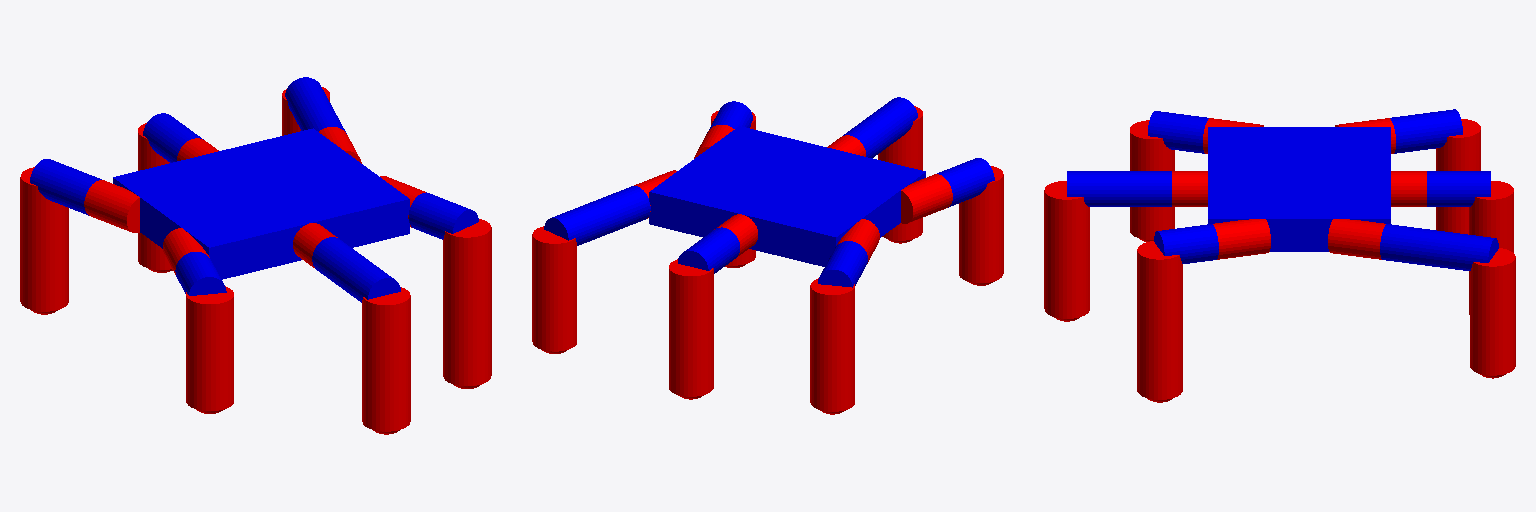
--- Render facts (derived) ---
The picture shows the robot from 3 angles, left to right: view 1: azimuth 30°, elevation 25°; view 2: azimuth 150°, elevation 25°; view 3: azimuth 270°, elevation 25°; orthographic projection.
Robot: pexod — 19 links, 18 joints (18 revolute); root link base_link; default pose: every joint at zero.
Visible links, largest first — view 1: base_link, leg_3_3, leg_4_3, leg_0_3, leg_5_3, leg_4_2, leg_0_2, leg_3_2, leg_0_1, leg_2_2, leg_5_2, leg_1_2 (+5 smaller); view 2: base_link, leg_1_3, leg_0_3, leg_2_3, leg_5_3, leg_2_2, leg_4_2, leg_4_3, leg_5_1, leg_1_2, leg_0_2, leg_5_2 (+3 smaller); view 3: base_link, leg_3_3, leg_4_3, leg_2_3, leg_2_2, leg_4_2, leg_5_3, leg_0_3, leg_1_3, leg_0_2, leg_1_2, leg_3_2 (+5 smaller).
Boxes of the visible links, x1,y1,x2,y2 form: base_link: (113,128,409,279); leg_3_3: (443,219,491,388); leg_4_3: (362,287,410,434); leg_0_3: (20,167,68,314); leg_5_3: (186,286,233,413); leg_4_2: (312,237,400,302); leg_0_2: (30,159,101,215); leg_3_2: (409,192,478,239); leg_0_1: (84,180,139,232); leg_2_2: (285,77,346,133); leg_5_2: (175,252,226,295); leg_1_2: (143,113,203,162); base_link: (649,126,925,266); leg_1_3: (669,259,713,399); leg_0_3: (810,278,854,414); leg_2_3: (532,226,576,353); leg_5_3: (959,166,1003,285); leg_2_2: (544,186,650,245); leg_4_2: (843,97,917,157); leg_4_3: (878,106,922,243); leg_5_1: (901,174,952,223); leg_1_2: (678,227,739,273); leg_0_2: (818,241,867,287); leg_5_2: (937,158,994,207); base_link: (1208,127,1390,251); leg_3_3: (1137,241,1182,402); leg_4_3: (1044,181,1089,321); leg_2_3: (1470,248,1515,378); leg_2_2: (1380,224,1498,270); leg_4_2: (1067,171,1171,206); leg_5_3: (1130,120,1174,241); leg_0_3: (1436,119,1480,234); leg_1_3: (1469,181,1513,314); leg_0_2: (1390,109,1462,153); leg_1_2: (1427,171,1490,206); leg_3_2: (1154,224,1218,263).
Bounding box of the posed robot: 0.3847 × 0.5172 × 0.2025 m (x, y, z).
Geometry: primitives only (box / cylinder / sphere), no mesh files.

robot.urdf — pexod:
<?xml version="1.0" ?>
<!-- =================================================================================== -->
<!-- |    This document was autogenerated by xacro from pexod.xacro                    | -->
<!-- |    EDITING THIS FILE BY HAND IS NOT RECOMMENDED                                 | -->
<!-- =================================================================================== -->
<robot name="pexod" xmlns:xacro="http://www.ros.org/wiki/xacro">
  <!-- <xacro:include filename="$(find pexod_description)/urdf/pexod_control.xacro" /> -->
  <!-- MATERIALS -->
  <material name="Blue">
    <color rgba="0 0 1 1"/>
  </material>
  <material name="Red">
    <color rgba="1 0 0 1"/>
  </material>
  <material name="Green">
    <color rgba="0 1 0 1"/>
  </material>
  <material name="Yellow">
    <color rgba="1 1 0 1"/>
  </material>
  <material name="LightGrey">
    <color rgba="0.6 0.6 0.6 1.0"/>
  </material>
  <!-- END OF MATERIALS -->
  <!-- XACRO MACROS FOR VISUALS AND COLLISIONS -->
  <!-- END OF XACRO MACROS -->
  <!-- TORSO -->
  <link name="base_link">
    <visual>
      <origin rpy="0 0 0" xyz="0 0 0"/>
      <geometry>
        <box size="0.24 0.2 0.04"/>
      </geometry>
      <material name="Blue"/>
    </visual>
    <collision>
      <origin rpy="0 0 0" xyz="0 0 0"/>
      <geometry>
        <box size="0.24 0.2 0.04"/>
      </geometry>
    </collision>
    <inertial>
      <!-- CENTER OF MASS -->
      <origin rpy="0 0 0" xyz="0 0 0"/>
      <mass value="1.031"/>
      <!-- box inertia: 1/12*m(y^2+z^2), ... -->
      <inertia ixx="0.00357413333333" ixy="0" ixz="0" iyy="0.00508626666667" iyz="0" izz="0.00838546666667"/>
    </inertial>
  </link>
  <!-- XACRO MACRO FOR LEGS LINKS/JOINTS -->
  <!-- END OF LEG LINKS/JOINTS -->
  <joint name="body_leg_2" type="revolute">
    <parent link="base_link"/>
    <child link="leg_2_1"/>
    <limit effort="30.0" lower="-1.57079632679" upper="1.57079632679" velocity="7.0"/>
    <origin rpy="0 0 -0.3" xyz="0.11 0.04 0"/>
    <!-- <xacro:if value="${index == 5 or index == 4 or index == 3}">
                <axis xyz="0 0 1"/>
            </xacro:if>
            <xacro:if value="${index == 2 or index == 1 or index == 0}"> -->
    <axis xyz="0 0 1"/>
    <!-- </xacro:if> -->
    <dynamics damping="0.0"/>
  </joint>
  <link name="leg_2_1">
    <visual>
      <origin rpy="1.57079632679 0 0" xyz="0.01 0.03 0"/>
      <geometry>
        <cylinder length="0.06" radius="0.02"/>
      </geometry>
      <material name="Red"/>
    </visual>
    <collision>
      <origin rpy="1.57079632679 0 0" xyz="0.01 0.03 0"/>
      <geometry>
        <box size="0.02 0.02 0.06"/>
      </geometry>
    </collision>
    <inertial>
      <!-- CENTER OF MASS -->
      <origin rpy="1.57079632679 0 0" xyz="0.01 0.03 0"/>
      <mass value="0.02"/>
      <!-- box inertia: 1/12*m(y^2+z^2), ... -->
      <inertia ixx="6.66666666667e-06" ixy="0" ixz="0" iyy="6.66666666667e-06" iyz="0" izz="1.33333333333e-06"/>
    </inertial>
  </link>
  <joint name="leg_2_1_2" type="revolute">
    <parent link="leg_2_1"/>
    <child link="leg_2_2"/>
    <limit effort="30.0" lower="-0.78539816339" upper="0.78539816339" velocity="7.0"/>
    <origin rpy="0 0 0" xyz="0 0.06 0"/>
    <axis xyz="1 0 0"/>
    <dynamics damping="0.0"/>
  </joint>
  <link name="leg_2_2">
    <visual>
      <origin rpy="1.57079632679 0 0" xyz="0.01 0.062117402675 0"/>
      <geometry>
        <cylinder length="0.12423480535" radius="0.02"/>
      </geometry>
      <material name="Blue"/>
    </visual>
    <collision>
      <origin rpy="1.57079632679 0 0" xyz="0.01 0.062117402675 0"/>
      <geometry>
        <box size="0.02 0.02 0.12423480535"/>
      </geometry>
    </collision>
    <inertial>
      <!-- CENTER OF MASS -->
      <origin rpy="1.57079632679 0 0" xyz="0.01 0.062117402675 0"/>
      <mass value="0.184"/>
      <!-- box inertia: 1/12*m(y^2+z^2), ... -->
      <inertia ixx="0.000242792398525" ixy="0" ixz="0" iyy="0.000242792398525" iyz="0" izz="1.22666666667e-05"/>
    </inertial>
  </link>
  <joint name="leg_2_2_3" type="revolute">
    <parent link="leg_2_2"/>
    <child link="leg_2_3"/>
    <limit effort="30.0" lower="-0.78539816339" upper="0.78539816339" velocity="7.0"/>
    <origin rpy="-1.57079632679 0 0" xyz="0 0.12423480535 0"/>
    <axis xyz="-1 0 0"/>
    <dynamics damping="0.0"/>
  </joint>
  <link name="leg_2_3">
    <visual>
      <origin rpy="1.57079632679 0 0" xyz="0.0125 0.066045523135 0"/>
      <geometry>
        <cylinder length="0.13209104627" radius="0.025"/>
      </geometry>
      <material name="Red"/>
    </visual>
    <visual>
      <origin rpy="1.57079632679 0 0" xyz="0.0125 0.11959104627 0"/>
      <geometry>
        <sphere radius="0.025"/>
      </geometry>
      <material name="Red"/>
    </visual>
    <collision>
      <origin rpy="1.57079632679 0 0" xyz="0.0125 0.066045523135 0"/>
      <geometry>
        <box size="0.025 0.025 0.13209104627"/>
      </geometry>
    </collision>
    <collision>
      <origin rpy="1.57079632679 0 0" xyz="0.0125 0.11959104627 0"/>
      <geometry>
        <sphere radius="0.025"/>
      </geometry>
      <material name="Red"/>
    </collision>
    <inertial>
      <!-- CENTER OF MASS -->
      <origin rpy="1.57079632679 0 0" xyz="0.0125 0.066045523135 0"/>
      <mass value="0.04"/>
      <!-- box inertia: 1/12*m(y^2+z^2), ... -->
      <inertia ixx="6.02434816823e-05" ixy="0" ixz="0" iyy="6.02434816823e-05" iyz="0" izz="4.16666666667e-06"/>
    </inertial>
  </link>
  <joint name="body_leg_3" type="revolute">
    <parent link="base_link"/>
    <child link="leg_3_1"/>
    <limit effort="30.0" lower="-1.57079632679" upper="1.57079632679" velocity="7.0"/>
    <origin rpy="0 0 0.3" xyz="0.11 -0.04 0"/>
    <!-- <xacro:if value="${index == 5 or index == 4 or index == 3}">
                <axis xyz="0 0 1"/>
            </xacro:if>
            <xacro:if value="${index == 2 or index == 1 or index == 0}"> -->
    <axis xyz="0 0 1"/>
    <!-- </xacro:if> -->
    <dynamics damping="0.0"/>
  </joint>
  <link name="leg_3_1">
    <visual>
      <origin rpy="1.57079632679 0 0" xyz="0.01 -0.03 0"/>
      <geometry>
        <cylinder length="0.06" radius="0.02"/>
      </geometry>
      <material name="Red"/>
    </visual>
    <collision>
      <origin rpy="1.57079632679 0 0" xyz="0.01 -0.03 0"/>
      <geometry>
        <box size="0.02 0.02 0.06"/>
      </geometry>
    </collision>
    <inertial>
      <!-- CENTER OF MASS -->
      <origin rpy="1.57079632679 0 0" xyz="0.01 -0.03 0"/>
      <mass value="0.02"/>
      <!-- box inertia: 1/12*m(y^2+z^2), ... -->
      <inertia ixx="6.66666666667e-06" ixy="0" ixz="0" iyy="6.66666666667e-06" iyz="0" izz="1.33333333333e-06"/>
    </inertial>
  </link>
  <joint name="leg_3_1_2" type="revolute">
    <parent link="leg_3_1"/>
    <child link="leg_3_2"/>
    <limit effort="30.0" lower="-0.78539816339" upper="0.78539816339" velocity="7.0"/>
    <origin rpy="0 0 0" xyz="0 -0.06 0"/>
    <axis xyz="-1 0 0"/>
    <dynamics damping="0.0"/>
  </joint>
  <link name="leg_3_2">
    <visual>
      <origin rpy="1.57079632679 0 0" xyz="0.01 -0.0311464547611 0"/>
      <geometry>
        <cylinder length="0.0622929095222" radius="0.02"/>
      </geometry>
      <material name="Blue"/>
    </visual>
    <collision>
      <origin rpy="1.57079632679 0 0" xyz="0.01 -0.0311464547611 0"/>
      <geometry>
        <box size="0.02 0.02 0.0622929095222"/>
      </geometry>
    </collision>
    <inertial>
      <!-- CENTER OF MASS -->
      <origin rpy="1.57079632679 0 0" xyz="0.01 -0.0311464547611 0"/>
      <mass value="0.184"/>
      <!-- box inertia: 1/12*m(y^2+z^2), ... -->
      <inertia ixx="6.56329008434e-05" ixy="0" ixz="0" iyy="6.56329008434e-05" iyz="0" izz="1.22666666667e-05"/>
    </inertial>
  </link>
  <joint name="leg_3_2_3" type="revolute">
    <parent link="leg_3_2"/>
    <child link="leg_3_3"/>
    <limit effort="30.0" lower="-0.78539816339" upper="0.78539816339" velocity="7.0"/>
    <origin rpy="1.57079632679 0 0" xyz="0 -0.0622929095222 0"/>
    <axis xyz="1 0 0"/>
    <dynamics damping="0.0"/>
  </joint>
  <link name="leg_3_3">
    <visual>
      <origin rpy="1.57079632679 0 0" xyz="0.0125 -0.085015945963 0"/>
      <geometry>
        <cylinder length="0.170031891926" radius="0.025"/>
      </geometry>
      <material name="Red"/>
    </visual>
    <visual>
      <origin rpy="1.57079632679 0 0" xyz="0.0125 -0.157531891926 0"/>
      <geometry>
        <sphere radius="0.025"/>
      </geometry>
      <material name="Red"/>
    </visual>
    <collision>
      <origin rpy="1.57079632679 0 0" xyz="0.0125 -0.085015945963 0"/>
      <geometry>
        <box size="0.025 0.025 0.170031891926"/>
      </geometry>
    </collision>
    <collision>
      <origin rpy="1.57079632679 0 0" xyz="0.0125 -0.157531891926 0"/>
      <geometry>
        <sphere radius="0.025"/>
      </geometry>
      <material name="Red"/>
    </collision>
    <inertial>
      <!-- CENTER OF MASS -->
      <origin rpy="1.57079632679 0 0" xyz="0.0125 -0.085015945963 0"/>
      <mass value="0.04"/>
      <!-- box inertia: 1/12*m(y^2+z^2), ... -->
      <inertia ixx="9.84528142398e-05" ixy="0" ixz="0" iyy="9.84528142398e-05" iyz="0" izz="4.16666666667e-06"/>
    </inertial>
  </link>
  <joint name="body_leg_0" type="revolute">
    <parent link="base_link"/>
    <child link="leg_0_1"/>
    <limit effort="30.0" lower="-1.57079632679" upper="1.57079632679" velocity="7.0"/>
    <origin rpy="0 0 0.3" xyz="-0.13 0.04 0"/>
    <!-- <xacro:if value="${index == 5 or index == 4 or index == 3}">
                <axis xyz="0 0 1"/>
            </xacro:if>
            <xacro:if value="${index == 2 or index == 1 or index == 0}"> -->
    <axis xyz="0 0 1"/>
    <!-- </xacro:if> -->
    <dynamics damping="0.0"/>
  </joint>
  <link name="leg_0_1">
    <visual>
      <origin rpy="1.57079632679 0 0" xyz="0.01 0.03 0"/>
      <geometry>
        <cylinder length="0.06" radius="0.02"/>
      </geometry>
      <material name="Red"/>
    </visual>
    <collision>
      <origin rpy="1.57079632679 0 0" xyz="0.01 0.03 0"/>
      <geometry>
        <box size="0.02 0.02 0.06"/>
      </geometry>
    </collision>
    <inertial>
      <!-- CENTER OF MASS -->
      <origin rpy="1.57079632679 0 0" xyz="0.01 0.03 0"/>
      <mass value="0.02"/>
      <!-- box inertia: 1/12*m(y^2+z^2), ... -->
      <inertia ixx="6.66666666667e-06" ixy="0" ixz="0" iyy="6.66666666667e-06" iyz="0" izz="1.33333333333e-06"/>
    </inertial>
  </link>
  <joint name="leg_0_1_2" type="revolute">
    <parent link="leg_0_1"/>
    <child link="leg_0_2"/>
    <limit effort="30.0" lower="-0.78539816339" upper="0.78539816339" velocity="7.0"/>
    <origin rpy="0 0 0" xyz="0 0.06 0"/>
    <axis xyz="1 0 0"/>
    <dynamics damping="0.0"/>
  </joint>
  <link name="leg_0_2">
    <visual>
      <origin rpy="1.57079632679 0 0" xyz="0.01 0.0384453089692 0"/>
      <geometry>
        <cylinder length="0.0768906179384" radius="0.02"/>
      </geometry>
      <material name="Blue"/>
    </visual>
    <collision>
      <origin rpy="1.57079632679 0 0" xyz="0.01 0.0384453089692 0"/>
      <geometry>
        <box size="0.02 0.02 0.0768906179384"/>
      </geometry>
    </collision>
    <inertial>
      <!-- CENTER OF MASS -->
      <origin rpy="1.57079632679 0 0" xyz="0.01 0.0384453089692 0"/>
      <mass value="0.184"/>
      <!-- box inertia: 1/12*m(y^2+z^2), ... -->
      <inertia ixx="9.67865626132e-05" ixy="0" ixz="0" iyy="9.67865626132e-05" iyz="0" izz="1.22666666667e-05"/>
    </inertial>
  </link>
  <joint name="leg_0_2_3" type="revolute">
    <parent link="leg_0_2"/>
    <child link="leg_0_3"/>
    <limit effort="30.0" lower="-0.78539816339" upper="0.78539816339" velocity="7.0"/>
    <origin rpy="-1.57079632679 0 0" xyz="0 0.0768906179384 0"/>
    <axis xyz="-1 0 0"/>
    <dynamics damping="0.0"/>
  </joint>
  <link name="leg_0_3">
    <visual>
      <origin rpy="1.57079632679 0 0" xyz="0.0125 0.071595968163 0"/>
      <geometry>
        <cylinder length="0.143191936326" radius="0.025"/>
      </geometry>
      <material name="Red"/>
    </visual>
    <visual>
      <origin rpy="1.57079632679 0 0" xyz="0.0125 0.130691936326 0"/>
      <geometry>
        <sphere radius="0.025"/>
      </geometry>
      <material name="Red"/>
    </visual>
    <collision>
      <origin rpy="1.57079632679 0 0" xyz="0.0125 0.071595968163 0"/>
      <geometry>
        <box size="0.025 0.025 0.143191936326"/>
      </geometry>
    </collision>
    <collision>
      <origin rpy="1.57079632679 0 0" xyz="0.0125 0.130691936326 0"/>
      <geometry>
        <sphere radius="0.025"/>
      </geometry>
      <material name="Red"/>
    </collision>
    <inertial>
      <!-- CENTER OF MASS -->
      <origin rpy="1.57079632679 0 0" xyz="0.0125 0.071595968163 0"/>
      <mass value="0.04"/>
      <!-- box inertia: 1/12*m(y^2+z^2), ... -->
      <inertia ixx="7.04297687626e-05" ixy="0" ixz="0" iyy="7.04297687626e-05" iyz="0" izz="4.16666666667e-06"/>
    </inertial>
  </link>
  <joint name="body_leg_5" type="revolute">
    <parent link="base_link"/>
    <child link="leg_5_1"/>
    <limit effort="30.0" lower="-1.57079632679" upper="1.57079632679" velocity="7.0"/>
    <origin rpy="0 0 -0.3" xyz="-0.13 -0.04 0"/>
    <!-- <xacro:if value="${index == 5 or index == 4 or index == 3}">
                <axis xyz="0 0 1"/>
            </xacro:if>
            <xacro:if value="${index == 2 or index == 1 or index == 0}"> -->
    <axis xyz="0 0 1"/>
    <!-- </xacro:if> -->
    <dynamics damping="0.0"/>
  </joint>
  <link name="leg_5_1">
    <visual>
      <origin rpy="1.57079632679 0 0" xyz="0.01 -0.03 0"/>
      <geometry>
        <cylinder length="0.06" radius="0.02"/>
      </geometry>
      <material name="Red"/>
    </visual>
    <collision>
      <origin rpy="1.57079632679 0 0" xyz="0.01 -0.03 0"/>
      <geometry>
        <box size="0.02 0.02 0.06"/>
      </geometry>
    </collision>
    <inertial>
      <!-- CENTER OF MASS -->
      <origin rpy="1.57079632679 0 0" xyz="0.01 -0.03 0"/>
      <mass value="0.02"/>
      <!-- box inertia: 1/12*m(y^2+z^2), ... -->
      <inertia ixx="6.66666666667e-06" ixy="0" ixz="0" iyy="6.66666666667e-06" iyz="0" izz="1.33333333333e-06"/>
    </inertial>
  </link>
  <joint name="leg_5_1_2" type="revolute">
    <parent link="leg_5_1"/>
    <child link="leg_5_2"/>
    <limit effort="30.0" lower="-0.78539816339" upper="0.78539816339" velocity="7.0"/>
    <origin rpy="0 0 0" xyz="0 -0.06 0"/>
    <axis xyz="-1 0 0"/>
    <dynamics damping="0.0"/>
  </joint>
  <link name="leg_5_2">
    <visual>
      <origin rpy="1.57079632679 0 0" xyz="0.01 -0.0317565575685 0"/>
      <geometry>
        <cylinder length="0.0635131151369" radius="0.02"/>
      </geometry>
      <material name="Blue"/>
    </visual>
    <collision>
      <origin rpy="1.57079632679 0 0" xyz="0.01 -0.0317565575685 0"/>
      <geometry>
        <box size="0.02 0.02 0.0635131151369"/>
      </geometry>
    </collision>
    <inertial>
      <!-- CENTER OF MASS -->
      <origin rpy="1.57079632679 0 0" xyz="0.01 -0.0317565575685 0"/>
      <mass value="0.184"/>
      <!-- box inertia: 1/12*m(y^2+z^2), ... -->
      <inertia ixx="6.79867088474e-05" ixy="0" ixz="0" iyy="6.79867088474e-05" iyz="0" izz="1.22666666667e-05"/>
    </inertial>
  </link>
  <joint name="leg_5_2_3" type="revolute">
    <parent link="leg_5_2"/>
    <child link="leg_5_3"/>
    <limit effort="30.0" lower="-0.78539816339" upper="0.78539816339" velocity="7.0"/>
    <origin rpy="1.57079632679 0 0" xyz="0 -0.0635131151369 0"/>
    <axis xyz="1 0 0"/>
    <dynamics damping="0.0"/>
  </joint>
  <link name="leg_5_3">
    <visual>
      <origin rpy="1.57079632679 0 0" xyz="0.0125 -0.0610628825355 0"/>
      <geometry>
        <cylinder length="0.122125765071" radius="0.025"/>
      </geometry>
      <material name="Red"/>
    </visual>
    <visual>
      <origin rpy="1.57079632679 0 0" xyz="0.0125 -0.109625765071 0"/>
      <geometry>
        <sphere radius="0.025"/>
      </geometry>
      <material name="Red"/>
    </visual>
    <collision>
      <origin rpy="1.57079632679 0 0" xyz="0.0125 -0.0610628825355 0"/>
      <geometry>
        <box size="0.025 0.025 0.122125765071"/>
      </geometry>
    </collision>
    <collision>
      <origin rpy="1.57079632679 0 0" xyz="0.0125 -0.109625765071 0"/>
      <geometry>
        <sphere radius="0.025"/>
      </geometry>
      <material name="Red"/>
    </collision>
    <inertial>
      <!-- CENTER OF MASS -->
      <origin rpy="1.57079632679 0 0" xyz="0.0125 -0.0610628825355 0"/>
      <mass value="0.04"/>
      <!-- box inertia: 1/12*m(y^2+z^2), ... -->
      <inertia ixx="5.17990083139e-05" ixy="0" ixz="0" iyy="5.17990083139e-05" iyz="0" izz="4.16666666667e-06"/>
    </inertial>
  </link>
  <joint name="body_leg_1" type="revolute">
    <parent link="base_link"/>
    <child link="leg_1_1"/>
    <limit effort="30.0" lower="-1.57079632679" upper="1.57079632679" velocity="7.0"/>
    <origin rpy="0 0 0" xyz="-0.01 0.08 0"/>
    <!-- <xacro:if value="${index == 5 or index == 4 or index == 3}">
                <axis xyz="0 0 1"/>
            </xacro:if>
            <xacro:if value="${index == 2 or index == 1 or index == 0}"> -->
    <axis xyz="0 0 1"/>
    <!-- </xacro:if> -->
    <dynamics damping="0.0"/>
  </joint>
  <link name="leg_1_1">
    <visual>
      <origin rpy="1.57079632679 0 0" xyz="0.01 0.03 0"/>
      <geometry>
        <cylinder length="0.06" radius="0.02"/>
      </geometry>
      <material name="Red"/>
    </visual>
    <collision>
      <origin rpy="1.57079632679 0 0" xyz="0.01 0.03 0"/>
      <geometry>
        <box size="0.02 0.02 0.06"/>
      </geometry>
    </collision>
    <inertial>
      <!-- CENTER OF MASS -->
      <origin rpy="1.57079632679 0 0" xyz="0.01 0.03 0"/>
      <mass value="0.02"/>
      <!-- box inertia: 1/12*m(y^2+z^2), ... -->
      <inertia ixx="6.66666666667e-06" ixy="0" ixz="0" iyy="6.66666666667e-06" iyz="0" izz="1.33333333333e-06"/>
    </inertial>
  </link>
  <joint name="leg_1_1_2" type="revolute">
    <parent link="leg_1_1"/>
    <child link="leg_1_2"/>
    <limit effort="30.0" lower="-0.78539816339" upper="0.78539816339" velocity="7.0"/>
    <origin rpy="0 0 0" xyz="0 0.06 0"/>
    <axis xyz="1 0 0"/>
    <dynamics damping="0.0"/>
  </joint>
  <link name="leg_1_2">
    <visual>
      <origin rpy="1.57079632679 0 0" xyz="0.01 0.0352927191509 0"/>
      <geometry>
        <cylinder length="0.0705854383018" radius="0.02"/>
      </geometry>
      <material name="Blue"/>
    </visual>
    <collision>
      <origin rpy="1.57079632679 0 0" xyz="0.01 0.0352927191509 0"/>
      <geometry>
        <box size="0.02 0.02 0.0705854383018"/>
      </geometry>
    </collision>
    <inertial>
      <!-- CENTER OF MASS -->
      <origin rpy="1.57079632679 0 0" xyz="0.01 0.0352927191509 0"/>
      <mass value="0.184"/>
      <!-- box inertia: 1/12*m(y^2+z^2), ... -->
      <inertia ixx="8.25286628706e-05" ixy="0" ixz="0" iyy="8.25286628706e-05" iyz="0" izz="1.22666666667e-05"/>
    </inertial>
  </link>
  <joint name="leg_1_2_3" type="revolute">
    <parent link="leg_1_2"/>
    <child link="leg_1_3"/>
    <limit effort="30.0" lower="-0.78539816339" upper="0.78539816339" velocity="7.0"/>
    <origin rpy="-1.57079632679 0 0" xyz="0 0.0705854383018 0"/>
    <axis xyz="-1 0 0"/>
    <dynamics damping="0.0"/>
  </joint>
  <link name="leg_1_3">
    <visual>
      <origin rpy="1.57079632679 0 0" xyz="0.0125 0.0738511783035 0"/>
      <geometry>
        <cylinder length="0.147702356607" radius="0.025"/>
      </geometry>
      <material name="Red"/>
    </visual>
    <visual>
      <origin rpy="1.57079632679 0 0" xyz="0.0125 0.135202356607 0"/>
      <geometry>
        <sphere radius="0.025"/>
      </geometry>
      <material name="Red"/>
    </visual>
    <collision>
      <origin rpy="1.57079632679 0 0" xyz="0.0125 0.0738511783035 0"/>
      <geometry>
        <box size="0.025 0.025 0.147702356607"/>
      </geometry>
    </collision>
    <collision>
      <origin rpy="1.57079632679 0 0" xyz="0.0125 0.135202356607 0"/>
      <geometry>
        <sphere radius="0.025"/>
      </geometry>
      <material name="Red"/>
    </collision>
    <inertial>
      <!-- CENTER OF MASS -->
      <origin rpy="1.57079632679 0 0" xyz="0.0125 0.0738511783035 0"/>
      <mass value="0.04"/>
      <!-- box inertia: 1/12*m(y^2+z^2), ... -->
      <inertia ixx="7.48032871575e-05" ixy="0" ixz="0" iyy="7.48032871575e-05" iyz="0" izz="4.16666666667e-06"/>
    </inertial>
  </link>
  <joint name="body_leg_4" type="revolute">
    <parent link="base_link"/>
    <child link="leg_4_1"/>
    <limit effort="30.0" lower="-1.57079632679" upper="1.57079632679" velocity="7.0"/>
    <origin rpy="0 0 0" xyz="-0.01 -0.08 0"/>
    <!-- <xacro:if value="${index == 5 or index == 4 or index == 3}">
                <axis xyz="0 0 1"/>
            </xacro:if>
            <xacro:if value="${index == 2 or index == 1 or index == 0}"> -->
    <axis xyz="0 0 1"/>
    <!-- </xacro:if> -->
    <dynamics damping="0.0"/>
  </joint>
  <link name="leg_4_1">
    <visual>
      <origin rpy="1.57079632679 0 0" xyz="0.01 -0.03 0"/>
      <geometry>
        <cylinder length="0.06" radius="0.02"/>
      </geometry>
      <material name="Red"/>
    </visual>
    <collision>
      <origin rpy="1.57079632679 0 0" xyz="0.01 -0.03 0"/>
      <geometry>
        <box size="0.02 0.02 0.06"/>
      </geometry>
    </collision>
    <inertial>
      <!-- CENTER OF MASS -->
      <origin rpy="1.57079632679 0 0" xyz="0.01 -0.03 0"/>
      <mass value="0.02"/>
      <!-- box inertia: 1/12*m(y^2+z^2), ... -->
      <inertia ixx="6.66666666667e-06" ixy="0" ixz="0" iyy="6.66666666667e-06" iyz="0" izz="1.33333333333e-06"/>
    </inertial>
  </link>
  <joint name="leg_4_1_2" type="revolute">
    <parent link="leg_4_1"/>
    <child link="leg_4_2"/>
    <limit effort="30.0" lower="-0.78539816339" upper="0.78539816339" velocity="7.0"/>
    <origin rpy="0 0 0" xyz="0 -0.06 0"/>
    <axis xyz="-1 0 0"/>
    <dynamics damping="0.0"/>
  </joint>
  <link name="leg_4_2">
    <visual>
      <origin rpy="1.57079632679 0 0" xyz="0.01 -0.0575089742675 0"/>
      <geometry>
        <cylinder length="0.115017948535" radius="0.02"/>
      </geometry>
      <material name="Blue"/>
    </visual>
    <collision>
      <origin rpy="1.57079632679 0 0" xyz="0.01 -0.0575089742675 0"/>
      <geometry>
        <box size="0.02 0.02 0.115017948535"/>
      </geometry>
    </collision>
    <inertial>
      <!-- CENTER OF MASS -->
      <origin rpy="1.57079632679 0 0" xyz="0.01 -0.0575089742675 0"/>
      <mass value="0.184"/>
      <!-- box inertia: 1/12*m(y^2+z^2), ... -->
      <inertia ixx="0.000208979970106" ixy="0" ixz="0" iyy="0.000208979970106" iyz="0" izz="1.22666666667e-05"/>
    </inertial>
  </link>
  <joint name="leg_4_2_3" type="revolute">
    <parent link="leg_4_2"/>
    <child link="leg_4_3"/>
    <limit effort="30.0" lower="-0.78539816339" upper="0.78539816339" velocity="7.0"/>
    <origin rpy="1.57079632679 0 0" xyz="0 -0.115017948535 0"/>
    <axis xyz="1 0 0"/>
    <dynamics damping="0.0"/>
  </joint>
  <link name="leg_4_3">
    <visual>
      <origin rpy="1.57079632679 0 0" xyz="0.0125 -0.0721867526195 0"/>
      <geometry>
        <cylinder length="0.144373505239" radius="0.025"/>
      </geometry>
      <material name="Red"/>
    </visual>
    <visual>
      <origin rpy="1.57079632679 0 0" xyz="0.0125 -0.131873505239 0"/>
      <geometry>
        <sphere radius="0.025"/>
      </geometry>
      <material name="Red"/>
    </visual>
    <collision>
      <origin rpy="1.57079632679 0 0" xyz="0.0125 -0.0721867526195 0"/>
      <geometry>
        <box size="0.025 0.025 0.144373505239"/>
      </geometry>
    </collision>
    <collision>
      <origin rpy="1.57079632679 0 0" xyz="0.0125 -0.131873505239 0"/>
      <geometry>
        <sphere radius="0.025"/>
      </geometry>
      <material name="Red"/>
    </collision>
    <inertial>
      <!-- CENTER OF MASS -->
      <origin rpy="1.57079632679 0 0" xyz="0.0125 -0.0721867526195 0"/>
      <mass value="0.04"/>
      <!-- box inertia: 1/12*m(y^2+z^2), ... -->
      <inertia ixx="7.15623633833e-05" ixy="0" ixz="0" iyy="7.15623633833e-05" iyz="0" izz="4.16666666667e-06"/>
    </inertial>
  </link>
  <!-- END OF LEG LINKS/JOINTS -->
</robot>
